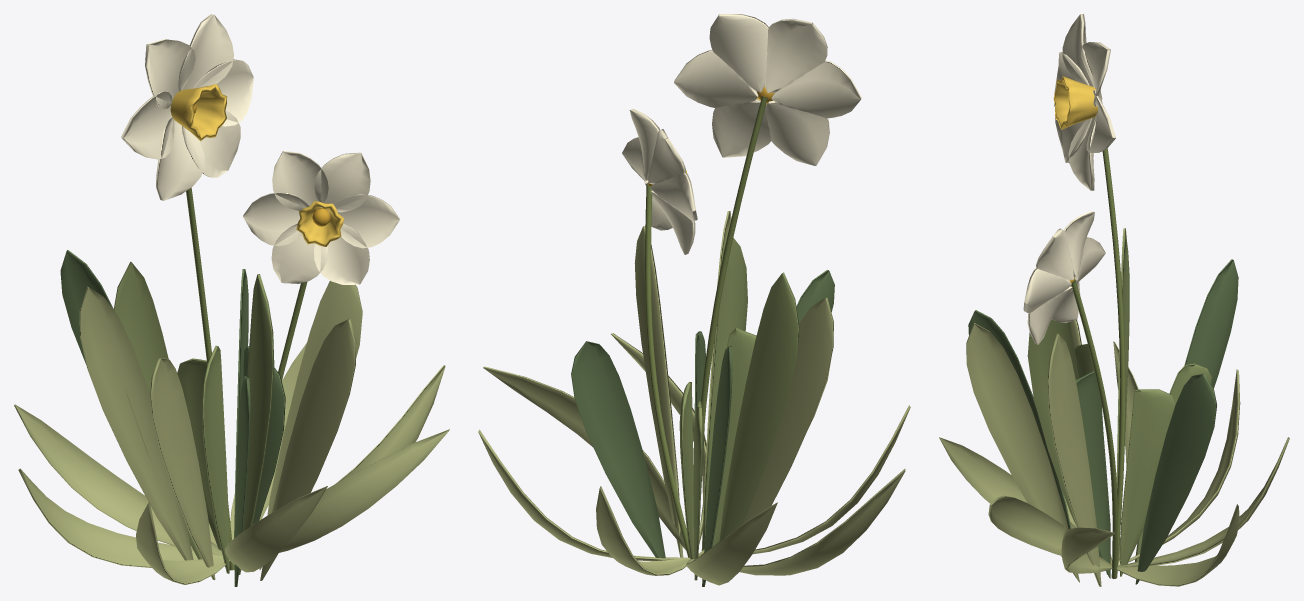
The model's file is garden3d_daffodil.glb.
3 views of the same model, side by side, from view 1: azimuth 30°, elevation 25°; view 2: azimuth 150°, elevation 25°; view 3: azimuth 270°, elevation 25° (orthographic). The views are drawn at different scales.
Visible parts, largest first — view 1: Plants / curved grass blades (×3), Daffodil / sculpted petals, Daffodil / basal leaves, Daffodil / hollow trumpet, Daffodil / flexible round stems; view 2: Plants / curved grass blades (×3), Daffodil / sculpted petals, Daffodil / basal leaves, Daffodil / flexible round stems; view 3: Plants / curved grass blades (×3), Daffodil / basal leaves, Daffodil / sculpted petals, Daffodil / flexible round stems, Daffodil / hollow trumpet.
Boxes of the visible parts, x1=… form: Plants / curved grass blades (×3): x1=60, y1=250, x2=362, y2=586; Daffodil / sculpted petals: x1=121, y1=14, x2=399, y2=284; Daffodil / basal leaves: x1=14, y1=343, x2=449, y2=584; Daffodil / hollow trumpet: x1=170, y1=84, x2=343, y2=246; Daffodil / flexible round stems: x1=186, y1=187, x2=307, y2=570; Plants / curved grass blades (×3): x1=571, y1=211, x2=834, y2=586; Daffodil / sculpted petals: x1=622, y1=14, x2=861, y2=254; Daffodil / basal leaves: x1=478, y1=333, x2=910, y2=585; Daffodil / flexible round stems: x1=645, y1=96, x2=767, y2=557; Plants / curved grass blades (×3): x1=966, y1=228, x2=1238, y2=586; Daffodil / basal leaves: x1=939, y1=341, x2=1289, y2=586; Daffodil / sculpted petals: x1=1023, y1=14, x2=1115, y2=344; Daffodil / flexible round stems: x1=1071, y1=148, x2=1125, y2=578; Daffodil / hollow trumpet: x1=1053, y1=76, x2=1097, y2=129.
Size of the model in its own units: 4.41 by 5.57 by 3.41.
